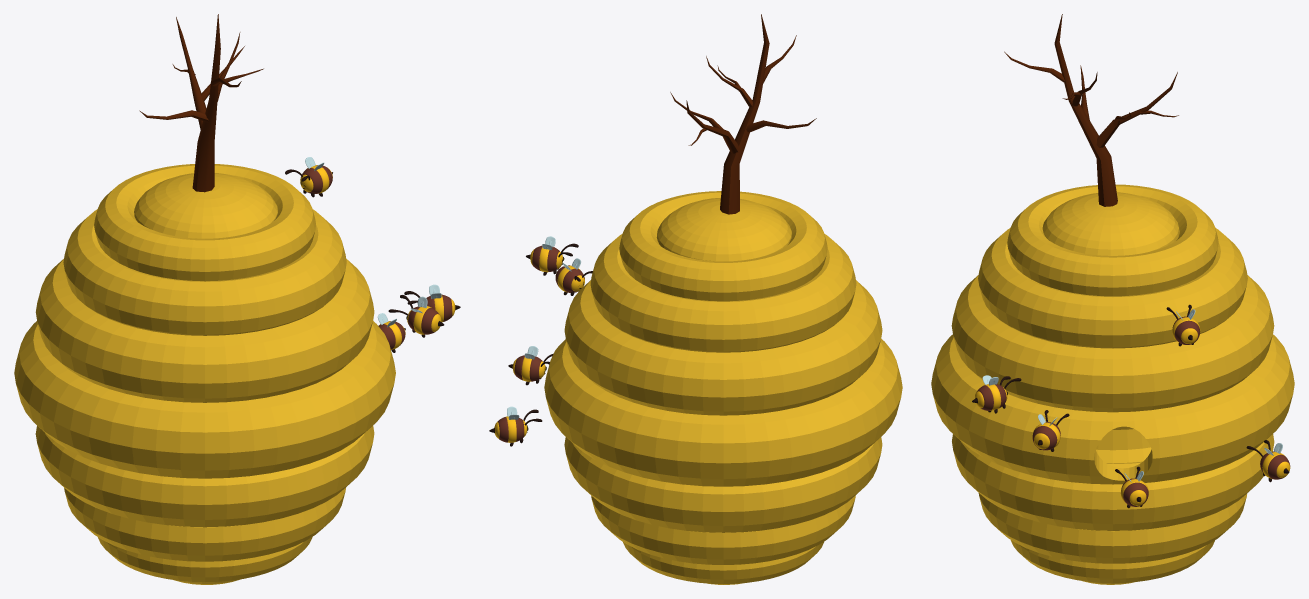
The model's file is beehive.glb.
3 renders of one model, left to right at view 1: azimuth 30°, elevation 25°; view 2: azimuth 150°, elevation 25°; view 3: azimuth 270°, elevation 25°, orthographic. The views are drawn at different scales.
Parts seen in each view (by area): view 1: Torus, default_Material_0, Cube.001_6.004, Cube.001_6.003; view 2: Torus, default_Material_0, Cube.001_6, Cube.001_6.002, Cube.001_6.003, Cube.001_6.001; view 3: Torus, default_Material_0, Cube.001_6.004, Cube.001_6, Cube.001_6.001, Cube.001_6.002, Cube.001_6.003.
Boxes of the visible parts, bbox=[...] form: Torus: bbox=[14, 164, 395, 584]; default_Material_0: bbox=[139, 14, 263, 192]; Cube.001_6.004: bbox=[407, 306, 444, 334]; Cube.001_6.003: bbox=[300, 165, 332, 193]; Torus: bbox=[544, 191, 902, 584]; default_Material_0: bbox=[670, 14, 816, 214]; Cube.001_6: bbox=[489, 416, 527, 442]; Cube.001_6.002: bbox=[508, 355, 545, 381]; Cube.001_6.003: bbox=[526, 245, 563, 272]; Cube.001_6.001: bbox=[555, 265, 584, 292]; Torus: bbox=[931, 184, 1294, 584]; default_Material_0: bbox=[1004, 14, 1178, 206]; Cube.001_6.004: bbox=[972, 384, 1007, 410]; Cube.001_6: bbox=[1260, 451, 1290, 479]; Cube.001_6.001: bbox=[1032, 422, 1060, 450]; Cube.001_6.002: bbox=[1120, 478, 1148, 506]; Cube.001_6.003: bbox=[1172, 316, 1200, 344].
Bounding box in the file's own units: 3.02 × 4.39 × 2.62.
Materials: 8 (1 with a texture image).
